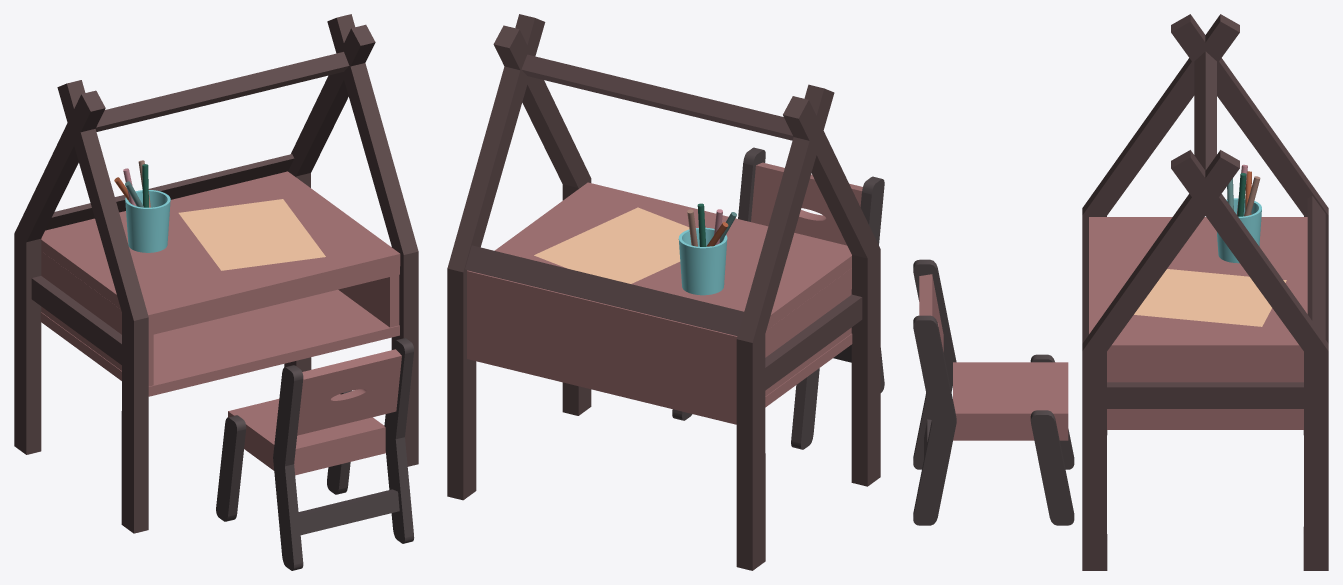
The model's file is Furn2_worktable_color2.fbx.
The picture shows the model from 3 angles, left to right: view 1: azimuth 30°, elevation 25°; view 2: azimuth 150°, elevation 25°; view 3: azimuth 270°, elevation 25°; orthographic projection. The views are drawn at different scales.
Visible parts, largest first — view 1: Куб.006; view 2: Куб.006; view 3: Куб.006.
Part boxes in pixels (x1,y1,x2,y2): Куб.006: [14, 14, 418, 570]; Куб.006: [447, 14, 884, 570]; Куб.006: [913, 14, 1328, 570].
Size of the model in its own units: 204 by 274 by 249.
